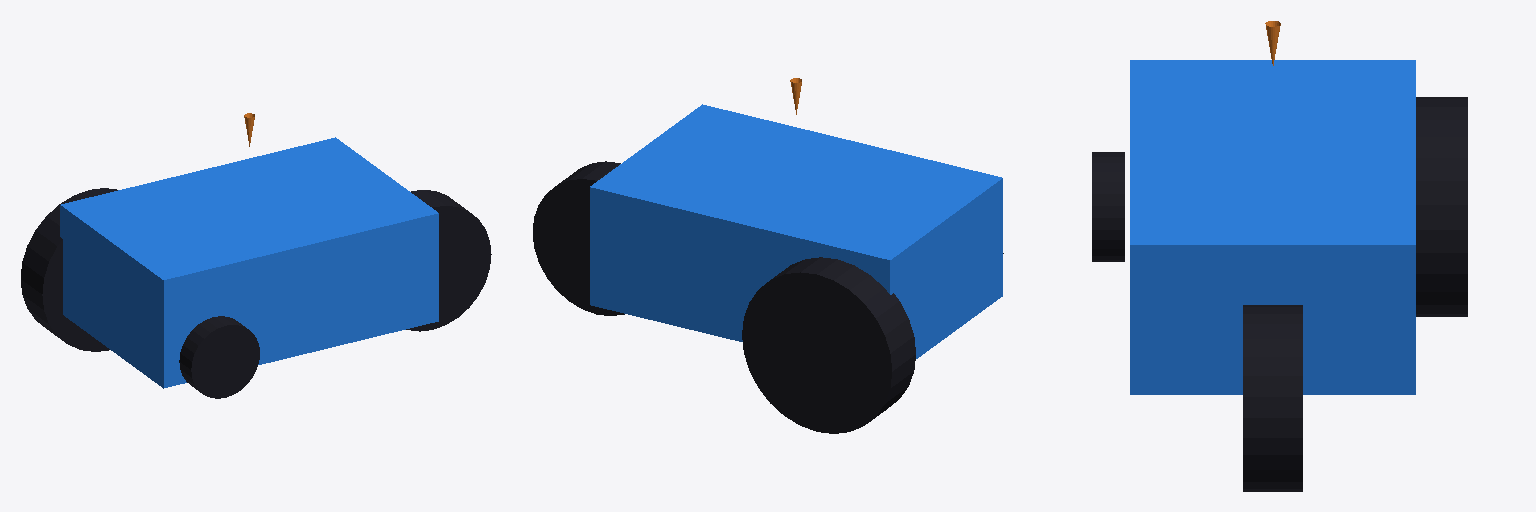
robot.urdf — tricycle_3w:
<?xml version="1.0"?>
<!-- Lappa aligned 3D robot - package tricycle_3w -->
<robot name="tricycle_3w">
  <link name="base_footprint"/>
  <joint name="base_joint" type="fixed">
    <parent link="base_footprint"/>
    <child link="base_link"/>
    <origin xyz="0 0 0.14000" rpy="0 0 0"/>
  </joint>

  <link name="base_link">
    <visual>
      <origin xyz="0 0 0" rpy="0 0 0"/>
      <geometry>
        <mesh filename="package://tricycle_3w/meshes/tricycle_3w_chassis.obj" scale="1 1 1"/>
      </geometry>
      <material name="lappa_mesh">
        <color rgba="0.2 0.55 0.95 1"/>
      </material>
    </visual>
    <collision>
      <origin xyz="0 0 0" rpy="0 0 0"/>
      <geometry>
        <mesh filename="package://tricycle_3w/meshes/tricycle_3w_chassis.obj" scale="1 1 1"/>
      </geometry>
    </collision>
  </link>

  <link name="wheel_steer">
    <visual>
      <origin xyz="0 0 0" rpy="0 0 0"/>
      <geometry>
        <mesh filename="package://tricycle_3w/meshes/tricycle_3w_wheel_steer.obj" scale="1 1 1"/>
      </geometry>
      <material name="lappa_mesh">
        <color rgba="0.15 0.15 0.18 1"/>
      </material>
    </visual>
    <collision>
      <origin xyz="0 0 0" rpy="0 0 0"/>
      <geometry>
        <mesh filename="package://tricycle_3w/meshes/tricycle_3w_wheel_steer.obj" scale="1 1 1"/>
      </geometry>
    </collision>
  </link>

  <joint name="wheel_steer_joint" type="continuous">
    <parent link="base_link"/>
    <child link="wheel_steer"/>
    <origin xyz="0.25000 0.00000 -0.05500" rpy="0 0 0.00000"/>
    <axis xyz="0 1 0"/>
  </joint>

  <link name="wheel_rear_l">
    <visual>
      <origin xyz="0 0 0" rpy="0 0 0"/>
      <geometry>
        <mesh filename="package://tricycle_3w/meshes/tricycle_3w_wheel_rear_l.obj" scale="1 1 1"/>
      </geometry>
      <material name="lappa_mesh">
        <color rgba="0.15 0.15 0.18 1"/>
      </material>
    </visual>
    <collision>
      <origin xyz="0 0 0" rpy="0 0 0"/>
      <geometry>
        <mesh filename="package://tricycle_3w/meshes/tricycle_3w_wheel_rear_l.obj" scale="1 1 1"/>
      </geometry>
    </collision>
  </link>

  <joint name="wheel_rear_l_joint" type="continuous">
    <parent link="base_link"/>
    <child link="wheel_rear_l"/>
    <origin xyz="-0.13000 0.15000 -0.04000" rpy="0 0 0.00000"/>
    <axis xyz="0 1 0"/>
  </joint>

  <link name="wheel_rear_r">
    <visual>
      <origin xyz="0 0 0" rpy="0 0 0"/>
      <geometry>
        <mesh filename="package://tricycle_3w/meshes/tricycle_3w_wheel_rear_r.obj" scale="1 1 1"/>
      </geometry>
      <material name="lappa_mesh">
        <color rgba="0.15 0.15 0.18 1"/>
      </material>
    </visual>
    <collision>
      <origin xyz="0 0 0" rpy="0 0 0"/>
      <geometry>
        <mesh filename="package://tricycle_3w/meshes/tricycle_3w_wheel_rear_r.obj" scale="1 1 1"/>
      </geometry>
    </collision>
  </link>

  <joint name="wheel_rear_r_joint" type="continuous">
    <parent link="base_link"/>
    <child link="wheel_rear_r"/>
    <origin xyz="-0.13000 -0.15000 -0.04000" rpy="0 0 0.00000"/>
    <axis xyz="0 1 0"/>
  </joint>

  <link name="lidar_link">
    <visual>
      <origin xyz="0 0 0" rpy="0 0 0"/>
      <geometry>
        <mesh filename="package://tricycle_3w/meshes/tricycle_3w_lidar.obj" scale="1 1 1"/>
      </geometry>
      <material name="lappa_mesh">
        <color rgba="0.95 0.55 0.2 1"/>
      </material>
    </visual>
    <collision>
      <origin xyz="0 0 0" rpy="0 0 0"/>
      <geometry>
        <mesh filename="package://tricycle_3w/meshes/tricycle_3w_lidar.obj" scale="1 1 1"/>
      </geometry>
    </collision>
  </link>

  <joint name="lidar_joint" type="fixed">
    <parent link="base_link"/>
    <child link="lidar_link"/>
    <origin xyz="0.00000 0.00000 0.16000" rpy="0 0 0"/>
  </joint>

</robot>

--- What the picture shows (computed from the rendered views, not written in the file) ---
3 views of the same robot in one strip: view 1: azimuth 30°, elevation 25°; view 2: azimuth 150°, elevation 25°; view 3: azimuth 270°, elevation 25° (orthographic).
Robot: tricycle_3w — 6 links, 5 joints (3 continuous, 2 fixed); root link base_footprint; default pose: every joint at zero.
Visible links, largest first — view 1: base_link, wheel_steer, wheel_rear_l, wheel_rear_r; view 2: base_link, wheel_rear_l, wheel_steer; view 3: base_link, wheel_rear_l, wheel_steer, wheel_rear_r.
Link boxes in pixels (x1,y1,x2,y2): base_link: (60, 137, 438, 388); wheel_steer: (406, 190, 491, 331); wheel_rear_l: (21, 188, 117, 351); wheel_rear_r: (179, 316, 259, 398); base_link: (590, 104, 1002, 358); wheel_rear_l: (742, 257, 915, 433); wheel_steer: (533, 161, 624, 315); base_link: (1130, 60, 1415, 394); wheel_rear_l: (1416, 97, 1467, 316); wheel_steer: (1243, 305, 1302, 491); wheel_rear_r: (1092, 152, 1124, 261).
Bounding box of the posed robot: 0.565 × 0.3425 × 0.3444 m (x, y, z).
Meshes: 5 distinct files referenced, 5 mesh visuals loaded (5 OBJ).
